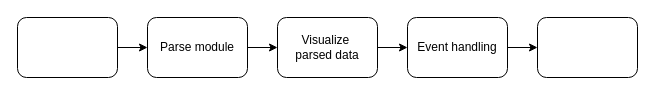
The diagram is 655 pixels wide and 95 high, and some of its shapes have lost their labels. Each missing label, with the centre of its shape:
"Display result" goes at point 587,47.
"Load module" goes at point 67,47.
